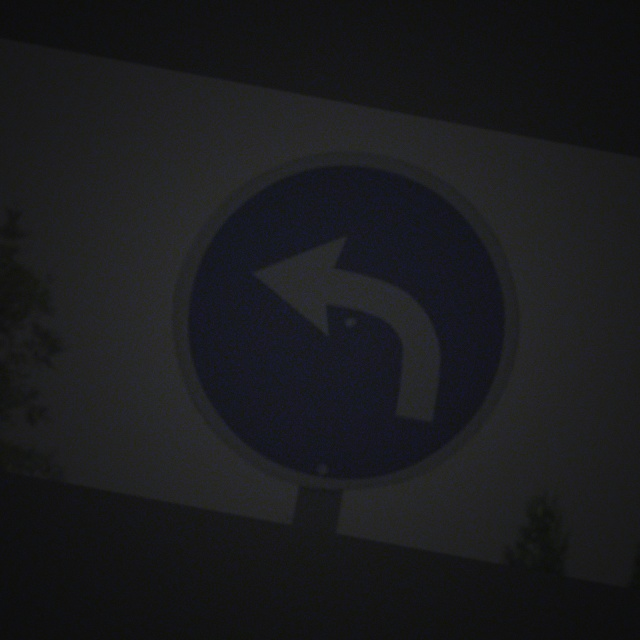Compulsory_Turn_Left_Ahead: (151, 120, 544, 517)
